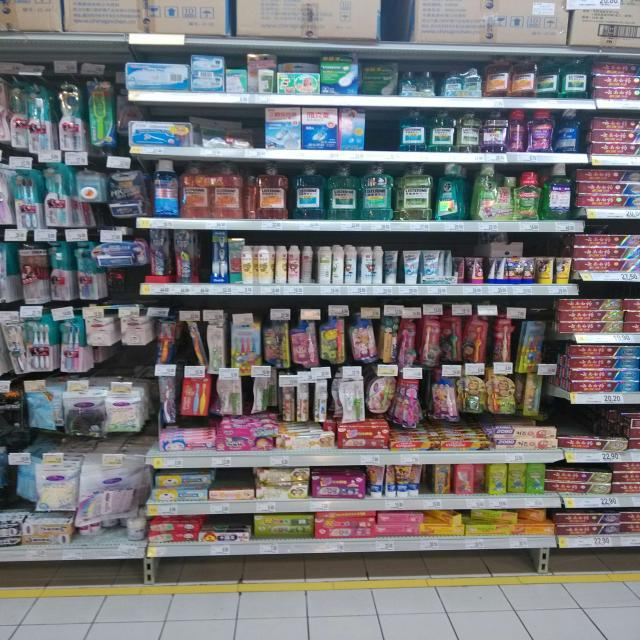unorganised: (423, 316, 493, 365), (362, 57, 442, 97), (508, 111, 584, 153), (158, 315, 209, 370), (191, 115, 265, 149), (439, 250, 508, 282), (545, 465, 614, 494), (559, 428, 631, 454), (367, 466, 425, 498), (422, 511, 554, 522), (372, 243, 401, 286), (457, 109, 485, 153), (338, 109, 366, 151), (300, 247, 330, 284), (537, 58, 560, 97), (152, 476, 212, 489), (474, 464, 490, 495)
